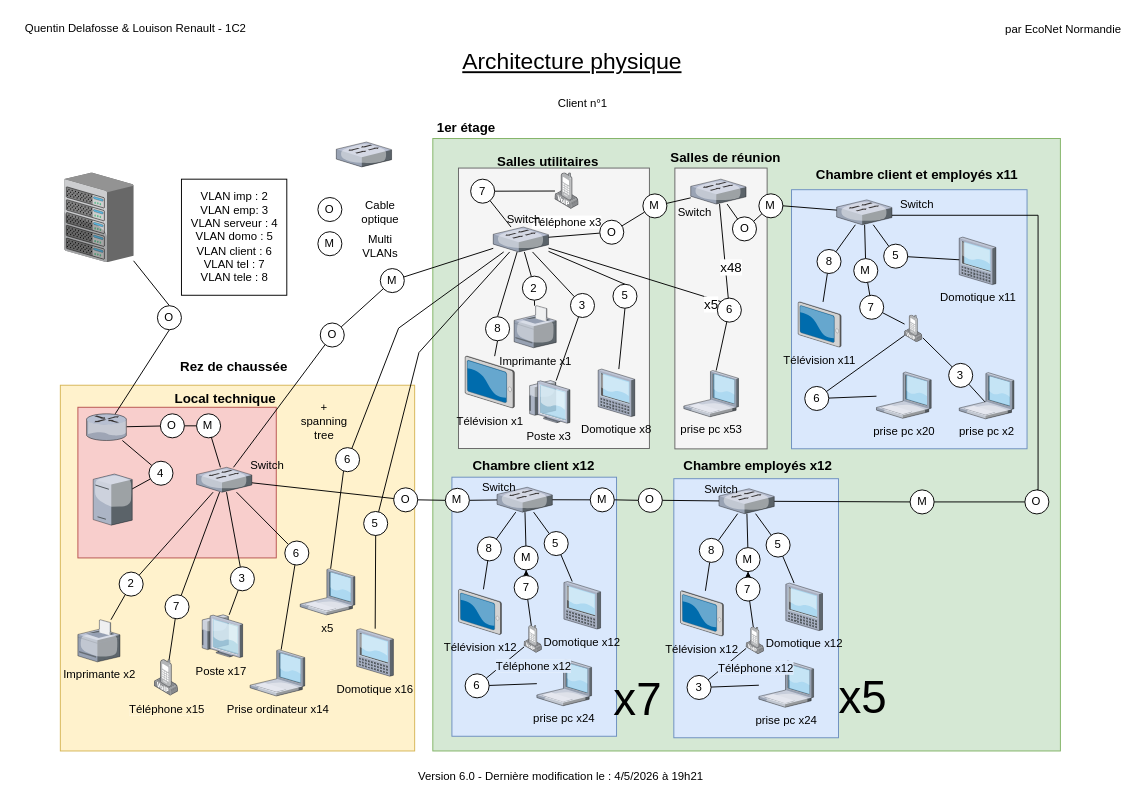
The diagram is 1143 pixels wide and 807 high, and some of its shapes have lost their labels. Each missing label, with the centre of its shape:
"Internet FAI" goes at pixel 98 217.
"Routeur" goes at pixel 106 426.
"Serveur" goes at pixel 112 499.
"Switch 48 ports + 4 SFP+" goes at pixel 363 154.
"Téléphone x11" goes at pixel 913 328.
